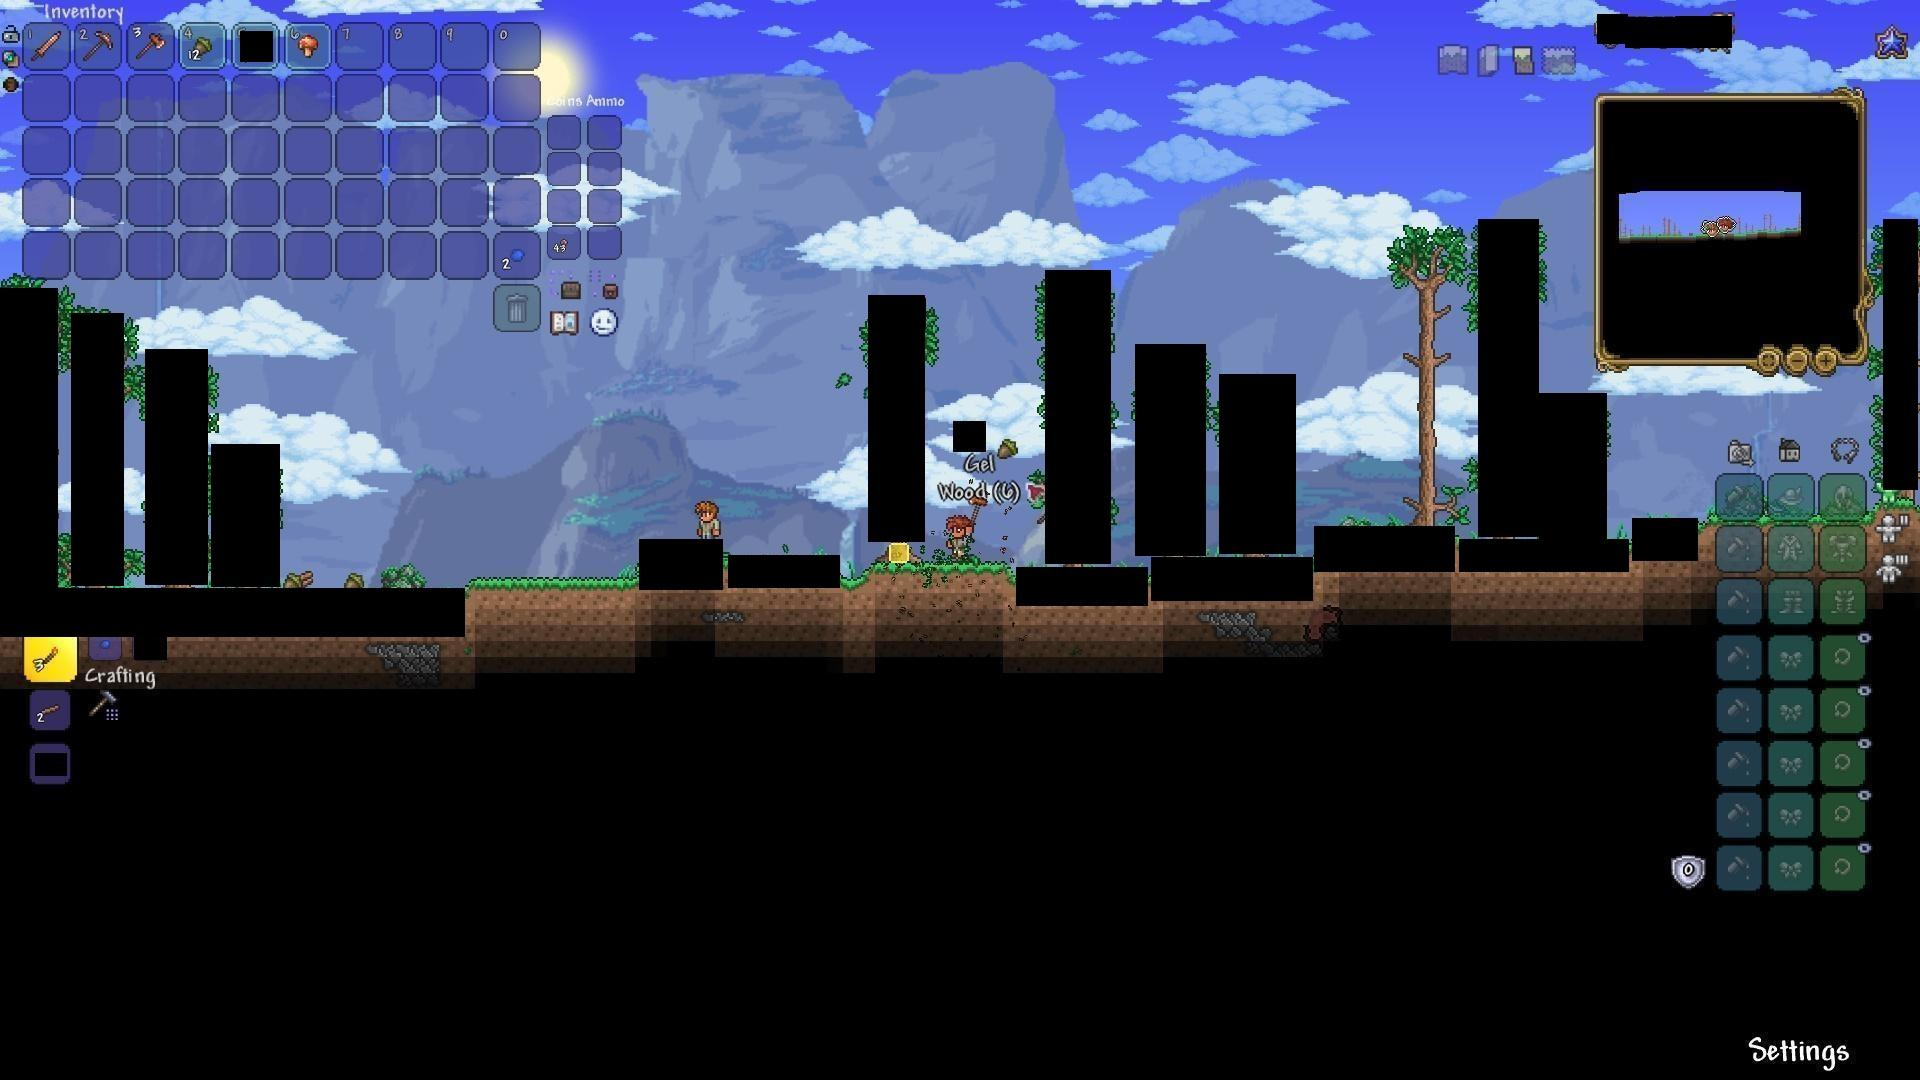dirt: (463, 568, 633, 611), (866, 550, 1010, 593)
tree: (1396, 222, 1455, 524)
wood: (295, 564, 316, 592)
